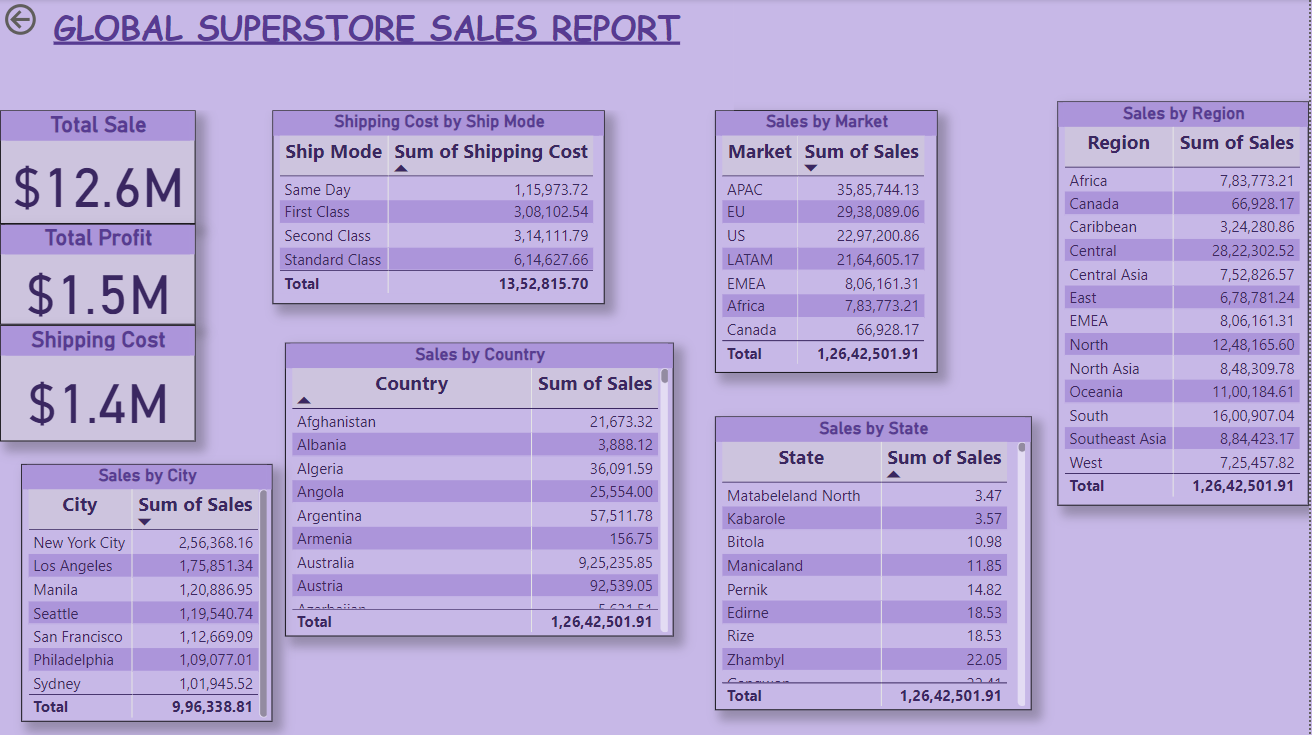

What the dashboard file says about the page in this screenshot:
{"tool":"powerbi","page":{"name":"Tables","canvas":[1280,720],"ordinal":1},"visuals":[{"type":"tableEx","title":"Sales by Country","fields":{"Values":["Orders.Country","Sum(Orders.Sales)"]},"box":[278.7,336.2,380.2,287.3],"z":0},{"type":"tableEx","title":"Shipping Cost by Ship Mode","fields":{"Values":["Orders.Ship Mode","Sum(Orders.Shipping Cost)"]},"box":[266.5,108.8,325.2,189.5],"z":1000},{"type":"tableEx","title":"Sales by Market ","fields":{"Values":["Orders.Market","Sum(Orders.Sales)"]},"box":[699.2,108.8,217.6,256.7],"z":2000},{"type":"tableEx","title":"Sales by City","fields":{"Values":["Orders.City","Sum(Orders.Sales)"]},"box":[20.8,454.7,245.7,251.8],"z":3000},{"type":"tableEx","title":"Sales by State","fields":{"Values":["Orders.State","Sum(Orders.Sales)"]},"box":[699.2,408.3,309.3,287.3],"z":4000},{"type":"card","title":"Total Sale","fields":{"Values":["Orders.Total Sale"]},"box":[0,108.8,191.2,111.2],"z":5000},{"type":"card","title":"Total Profit","fields":{"Values":["Orders.Total Profit"]},"box":[0,220,191.2,98.8],"z":6000},{"type":"card","title":"Shipping Cost","fields":{"Values":["Orders.Total Shipping Cost"]},"box":[0,318.8,191.2,113.8],"z":7000},{"type":"textbox","box":[0,0,717.5,108.8],"z":8000},{"type":"tableEx","title":"Sales by Region","fields":{"Values":["Orders.Region","Sum(Orders.Sales)"]},"box":[1034.2,100.2,245.7,394.8],"z":9000},{"type":"actionButton","box":[0,0,100,40],"z":10000}]}

Visuals, with their boxes in screenshot pixels (x1, y1, x2, y2), scaled from the page's 1280x720 canvas onto the 1312x735 screenshot:
"Sales by Country" tableEx: region(286, 343, 675, 636)
"Shipping Cost by Ship Mode" tableEx: region(273, 111, 606, 305)
"Sales by Market " tableEx: region(717, 111, 940, 373)
"Sales by City" tableEx: region(21, 464, 273, 721)
"Sales by State" tableEx: region(717, 417, 1034, 710)
"Total Sale" card: region(0, 111, 196, 225)
"Total Profit" card: region(0, 225, 196, 325)
"Shipping Cost" card: region(0, 325, 196, 442)
textbox: region(0, 0, 735, 111)
"Sales by Region" tableEx: region(1060, 102, 1311, 505)
actionButton: region(0, 0, 102, 41)
